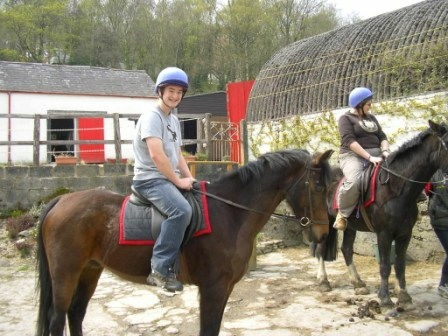without_mask: (156, 81, 184, 108), (354, 96, 374, 115)
